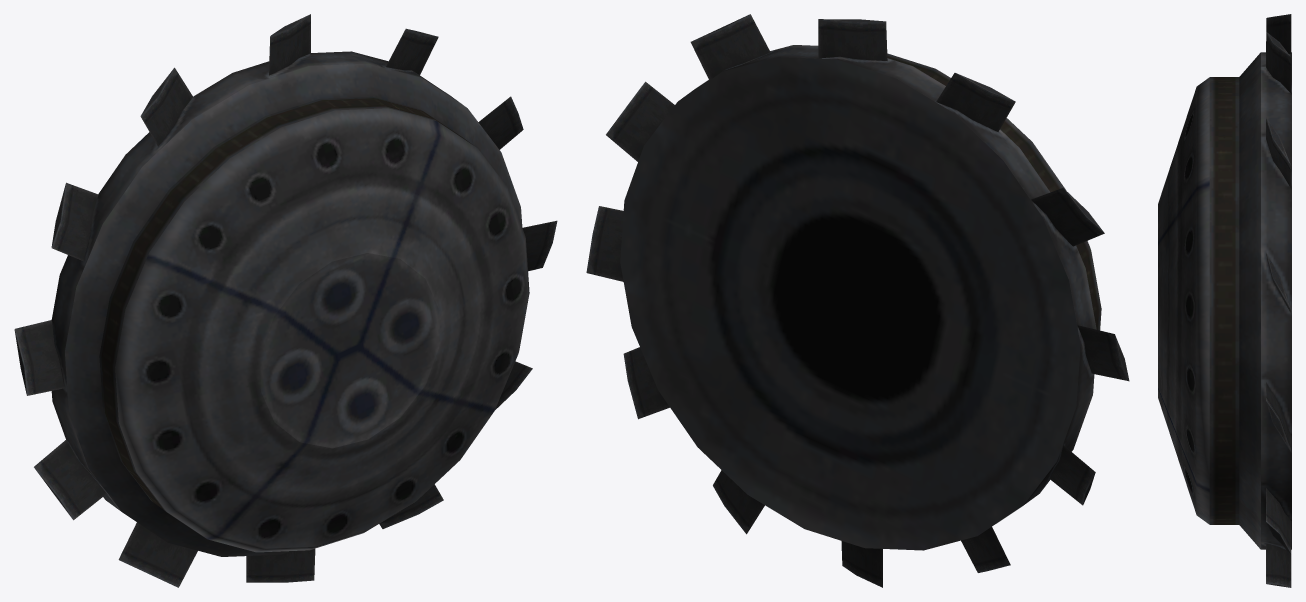
Rendered from t6_wpn_bouncing_betty_world_LOD0.obj.
3 views of the same model, side by side, from view 1: azimuth 30°, elevation 25°; view 2: azimuth 150°, elevation 25°; view 3: azimuth 270°, elevation 25° (orthographic). The views are drawn at different scales.
Visible parts, largest first — view 1: mtl_t6_wpn_bouncing_betty; view 2: mtl_t6_wpn_bouncing_betty; view 3: mtl_t6_wpn_bouncing_betty.
Boxes of the visible parts, left/top/right/bottom form: mtl_t6_wpn_bouncing_betty: left=14, top=14, right=557, bottom=587; mtl_t6_wpn_bouncing_betty: left=586, top=14, right=1129, bottom=587; mtl_t6_wpn_bouncing_betty: left=1158, top=14, right=1291, bottom=587.
Size of the model in its own units: 35.06 by 35.06 by 8.2.
